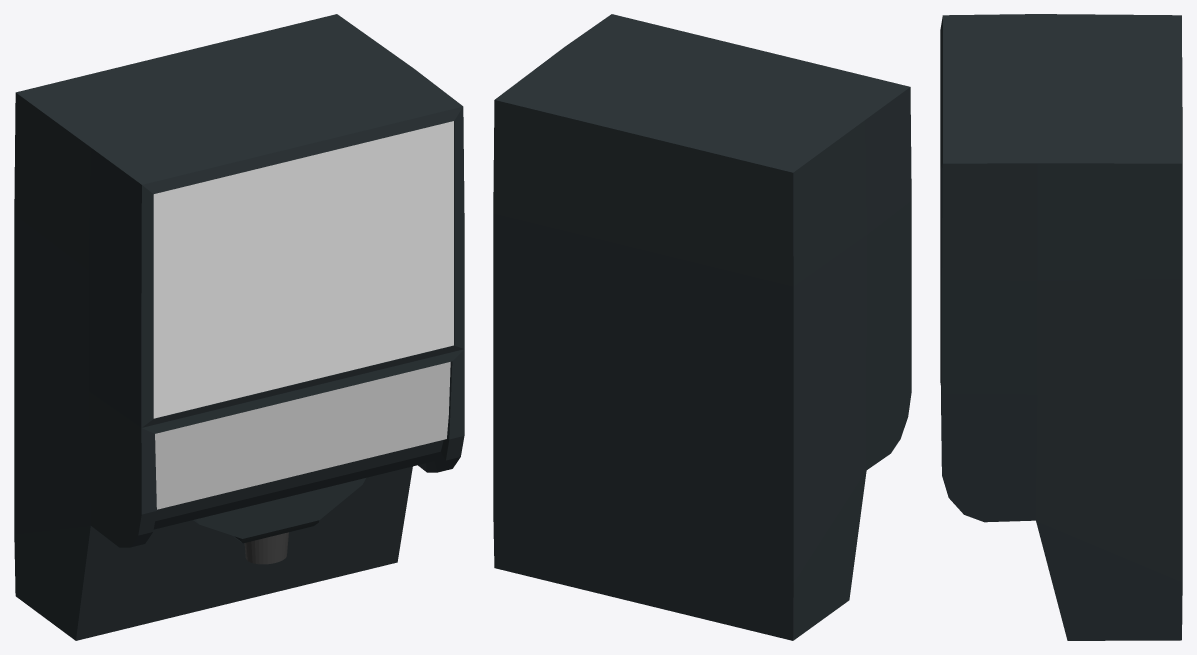
Rendered from Soap Dispensor #1.fbx.
The picture shows the model from 3 angles, left to right: view 1: azimuth 30°, elevation 25°; view 2: azimuth 150°, elevation 25°; view 3: azimuth 270°, elevation 25°; orthographic projection. The views are drawn at different scales.
Visible parts, largest first — view 1: Soap Dispensor #1; view 2: Soap Dispensor #1; view 3: Soap Dispensor #1.
Boxes of the visible parts, x1,y1,x2,y2 form: Soap Dispensor #1: [14, 14, 464, 640]; Soap Dispensor #1: [493, 14, 911, 640]; Soap Dispensor #1: [940, 14, 1182, 640].
Size of the model in its own units: 26.21 by 38.69 by 17.77.
Materials: 2 (1 with a texture image).
